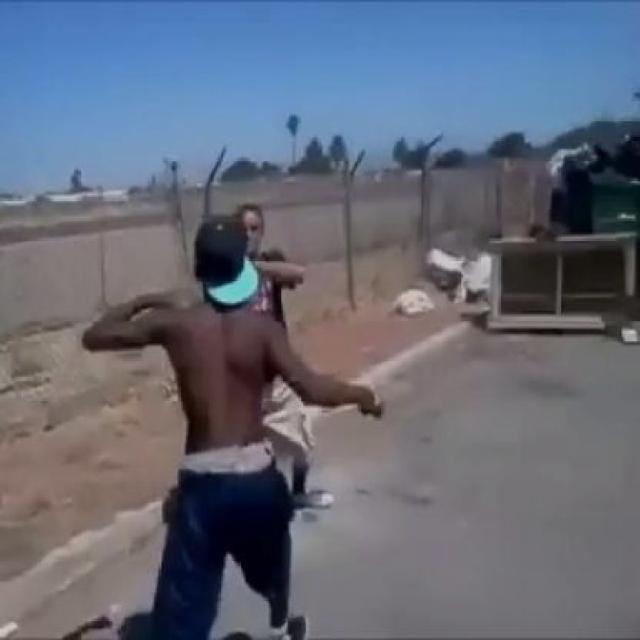fight: (80, 197, 385, 638)
